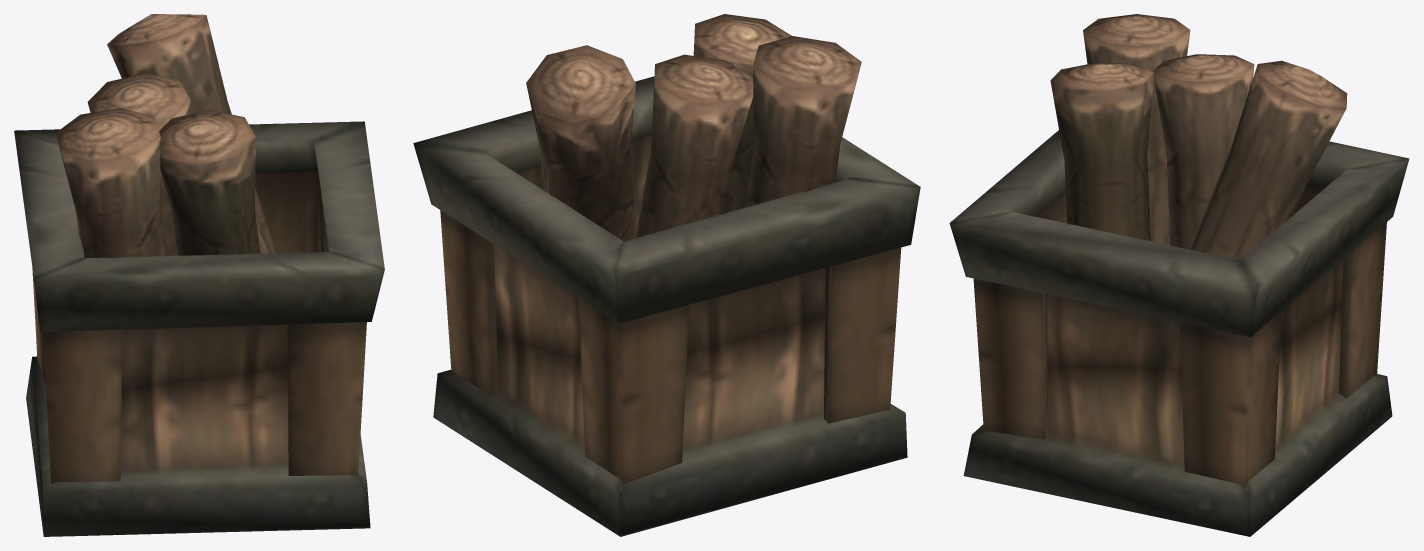
Rendered from Lty_xiaoxiangzi.FBX.
The picture shows the model from 3 angles, left to right: view 1: azimuth 30°, elevation 25°; view 2: azimuth 150°, elevation 25°; view 3: azimuth 270°, elevation 25°; orthographic projection. The views are drawn at different scales.
Visible parts, largest first — view 1: Lty_xiaoxiangzi; view 2: Lty_xiaoxiangzi; view 3: Lty_xiaoxiangzi.
Boxes of the visible parts, x1,y1,x2,y2 form: Lty_xiaoxiangzi: (14, 14, 384, 536); Lty_xiaoxiangzi: (413, 14, 920, 536); Lty_xiaoxiangzi: (949, 14, 1409, 536).
Size of the model in its own units: 82.22 by 81.83 by 76.45.
